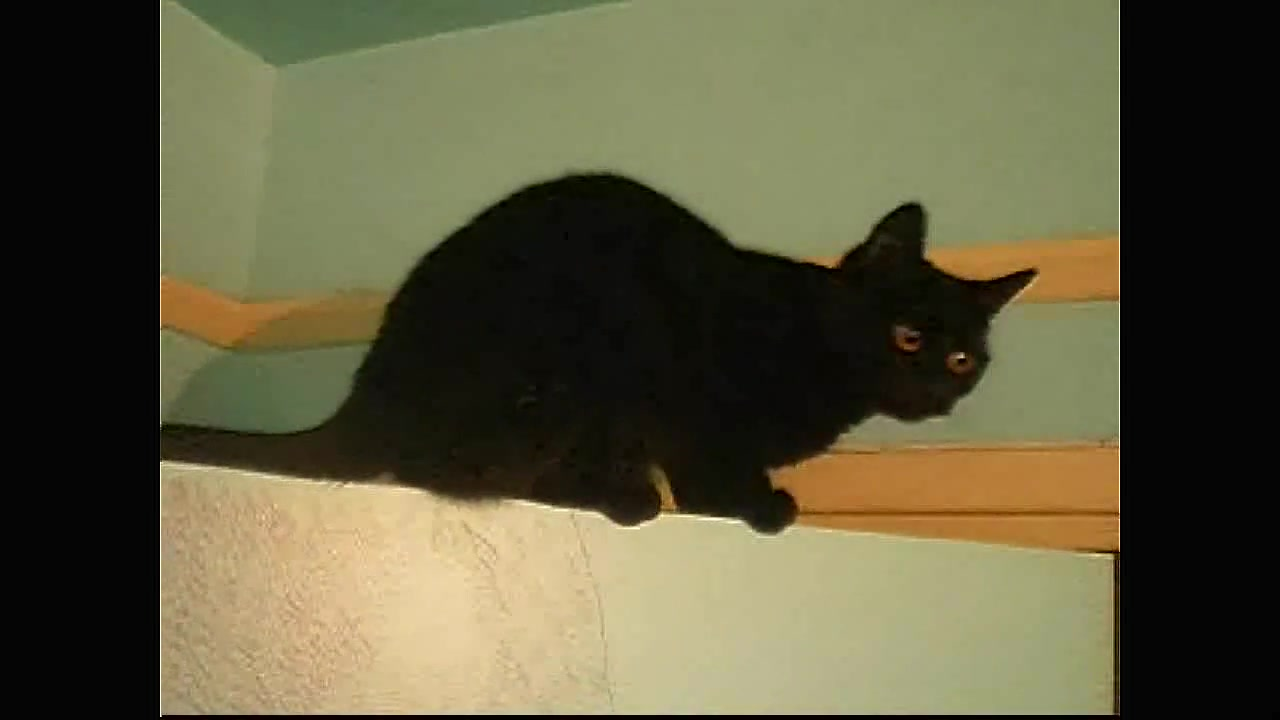cat: (162, 166, 1043, 538)
